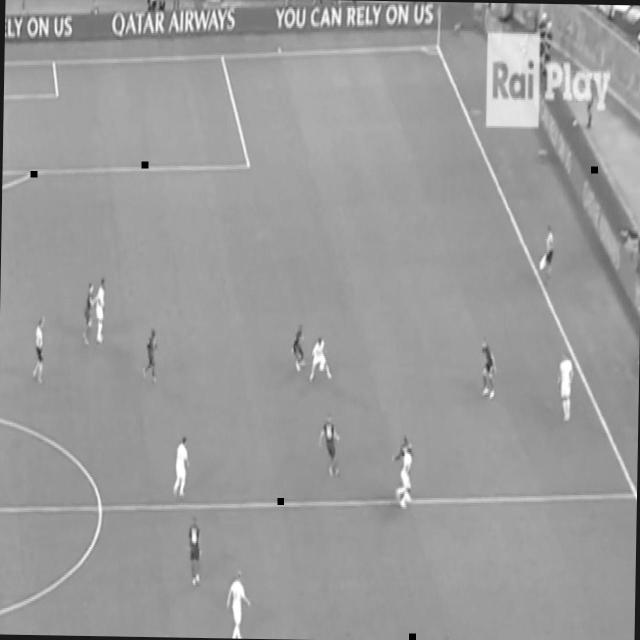player-white: (224, 568, 252, 639), (317, 414, 341, 480), (555, 350, 574, 424), (394, 442, 414, 512), (478, 336, 498, 402), (185, 516, 202, 588), (308, 336, 334, 383), (172, 434, 190, 498), (141, 326, 159, 386), (82, 281, 98, 346), (32, 314, 46, 386), (290, 323, 308, 375), (391, 434, 414, 469), (95, 276, 106, 346), (545, 223, 555, 277)
